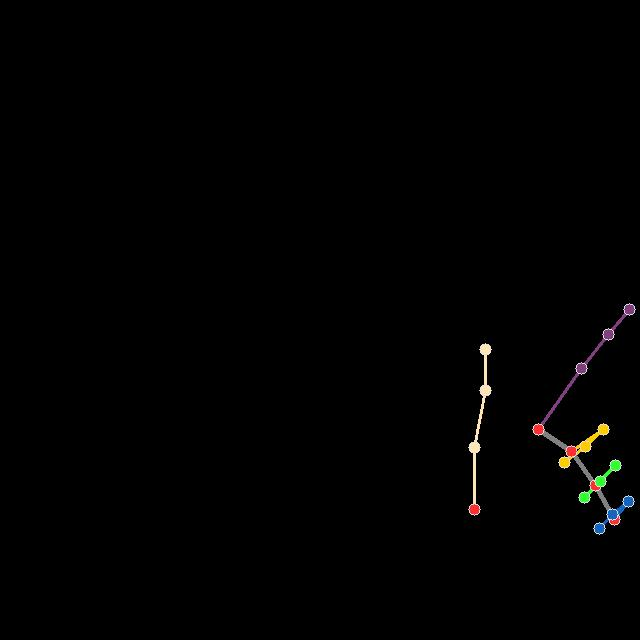gun: (460, 297, 640, 544)
